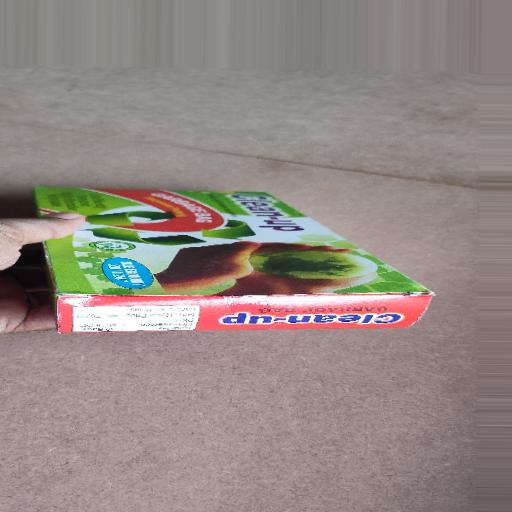CleanUp Garbage bag: (7, 156, 442, 358)
